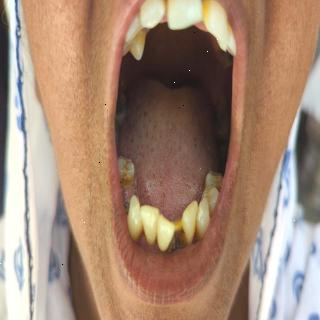calculus: (171, 214, 185, 248)
cavities: (118, 166, 136, 184)
maligned: (160, 11, 190, 36)
stains: (127, 27, 152, 55), (197, 0, 213, 28), (160, 0, 177, 22)
